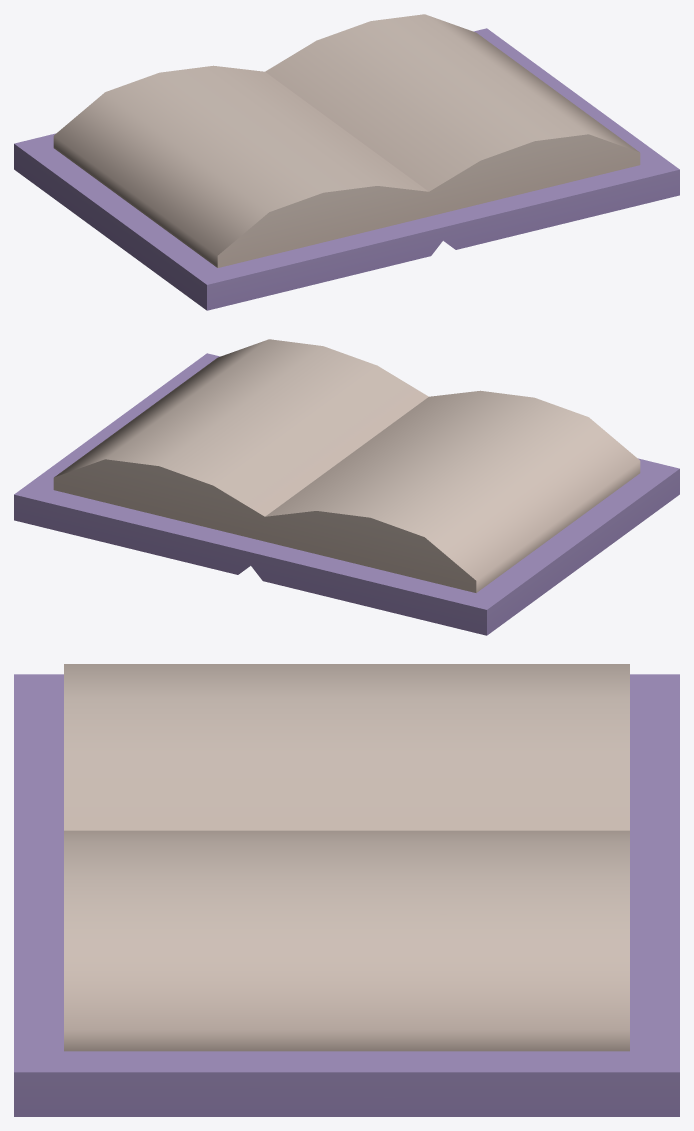
File: book-open_0.glb
3 views of the same model, one above another, from view 1: azimuth 30°, elevation 25°; view 2: azimuth 150°, elevation 25°; view 3: azimuth 270°, elevation 25° (orthographic). The views are drawn at different scales.
Parts seen in each view (by area): view 1: book-open; view 2: book-open; view 3: book-open.
Boxes of the visible parts, box(x1,y1,x2,y2) form: book-open: box(14, 14, 679, 310); book-open: box(14, 339, 679, 635); book-open: box(14, 664, 679, 1116).
Bounding box in the file's own units: 0.3762 × 0.0574 × 0.266.
